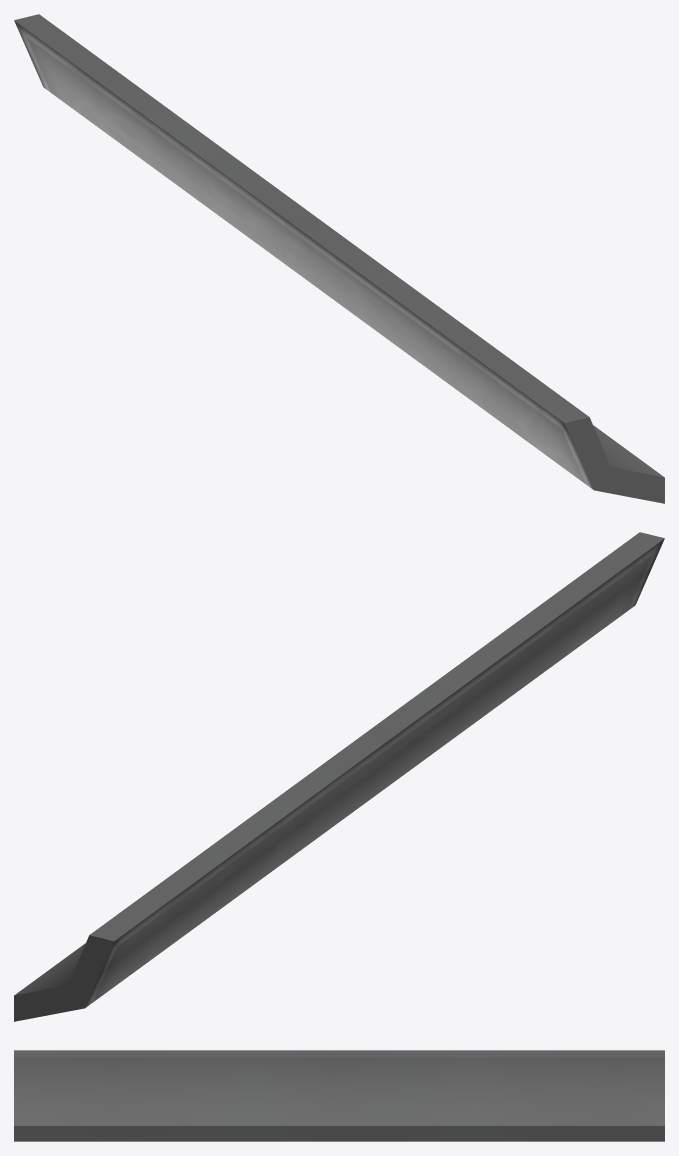
File: blue_steel_landing_skid_srf_2_door.obj
The picture shows the model from 3 angles, top to bottom: view 1: azimuth 30°, elevation 25°; view 2: azimuth 150°, elevation 25°; view 3: azimuth 270°, elevation 25°; orthographic projection. The views are drawn at different scales.
Visible parts, largest first — view 1: mesh1; view 2: mesh1; view 3: mesh1.
Part boxes in pixels (x1=…): mesh1: x1=14, y1=14, x2=664, y2=503; mesh1: x1=14, y1=532, x2=664, y2=1021; mesh1: x1=14, y1=1050, x2=664, y2=1141.
Size of the model in its own units: 0.1 by 0.1 by 0.95.
